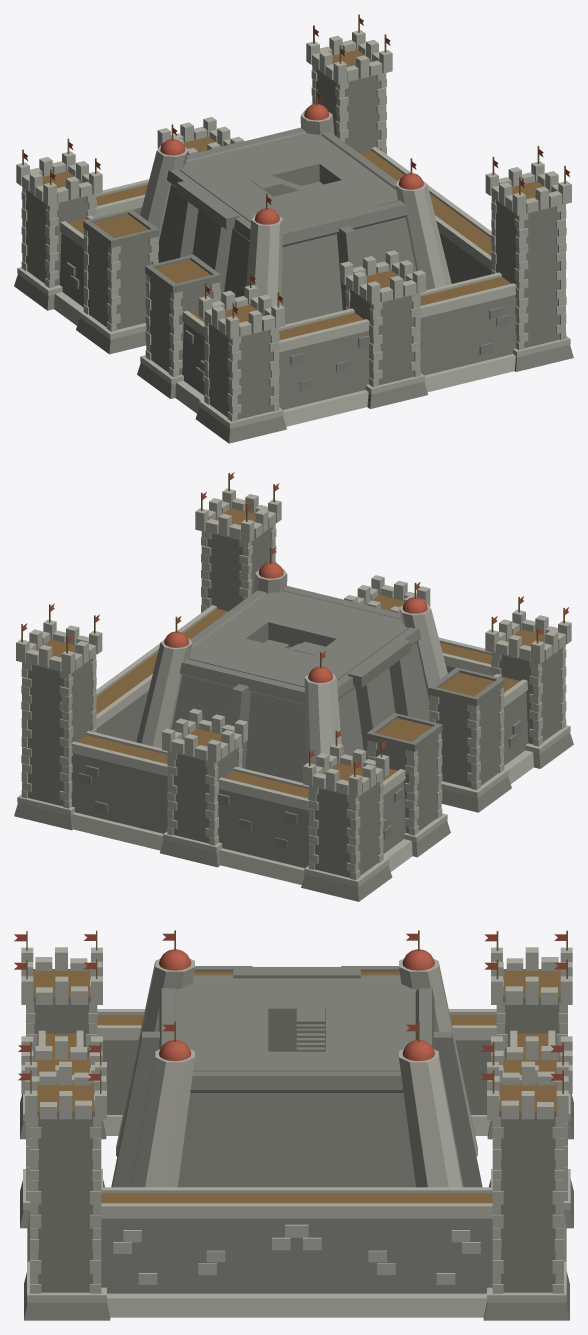
File: fortress.glb
3 renders of one model, top to bottom at view 1: azimuth 30°, elevation 25°; view 2: azimuth 150°, elevation 25°; view 3: azimuth 270°, elevation 25°, orthographic. The views are drawn at different scales.
Parts seen in each view (by area): view 1: Wonder_SecondAge_Level2, Wonder_SecondAge_Level2.002, group371990236.001; view 2: Wonder_SecondAge_Level2, Wonder_SecondAge_Level2.002; view 3: Wonder_SecondAge_Level2, Wonder_SecondAge_Level2.002, group371990236.001.
Part boxes in pixels (bbox=[...]): Wonder_SecondAge_Level2: bbox=[14, 14, 573, 443]; Wonder_SecondAge_Level2.002: bbox=[179, 133, 398, 228]; group371990236.001: bbox=[251, 175, 323, 191]; Wonder_SecondAge_Level2: bbox=[14, 472, 573, 901]; Wonder_SecondAge_Level2.002: bbox=[189, 591, 408, 687]; Wonder_SecondAge_Level2: bbox=[14, 930, 573, 1320]; Wonder_SecondAge_Level2.002: bbox=[176, 982, 415, 1071]; group371990236.001: bbox=[296, 1008, 325, 1051].
Size of what is drawn, in the model's own units: 78.27 by 43.34 by 85.03.
